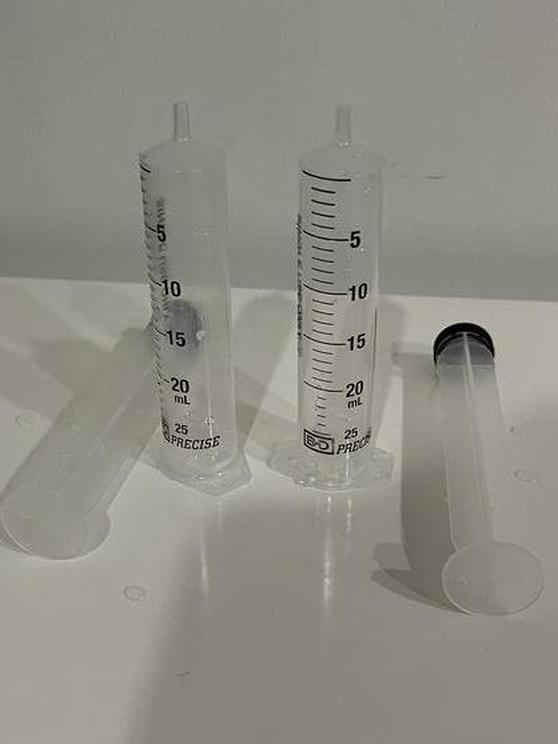wetsyringe: (269, 96, 395, 492), (139, 100, 255, 497)
